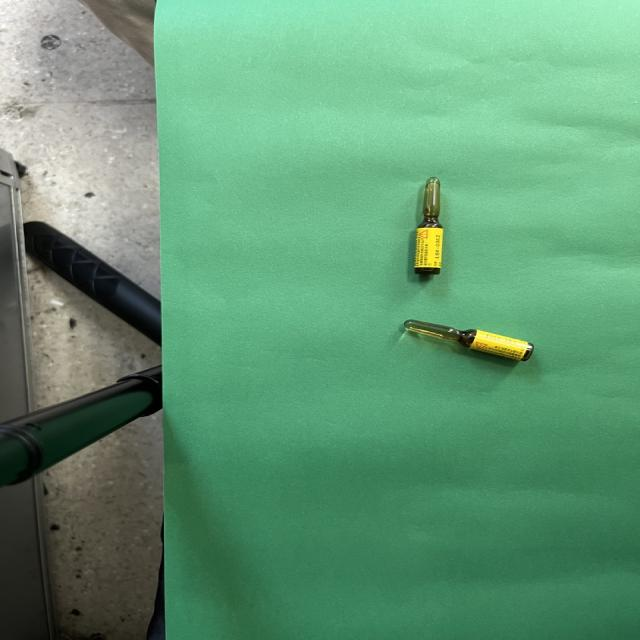Ampoules: (404, 320, 534, 362), (414, 178, 443, 276)
